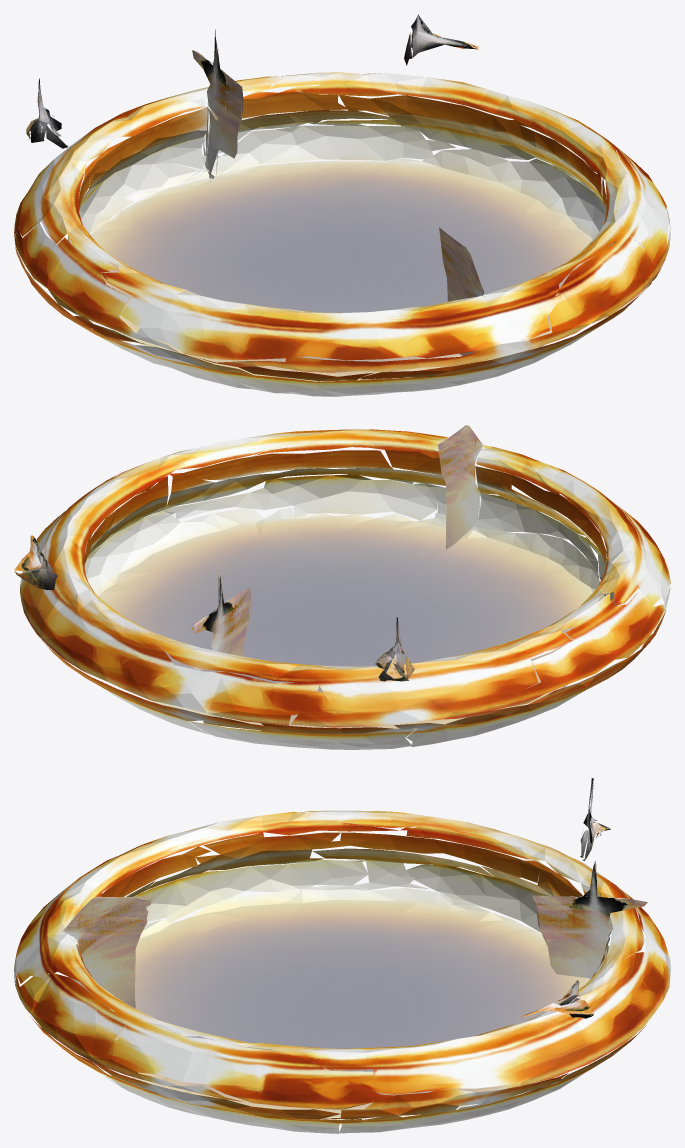
File: hatHalo_lo.glb
3 renders of one model, top to bottom at view 1: azimuth 30°, elevation 25°; view 2: azimuth 150°, elevation 25°; view 3: azimuth 270°, elevation 25°, orthographic.
Visible parts, largest first — view 1: geometry_0; view 2: geometry_0; view 3: geometry_0.
Part boxes in pixels (x1,y1,x2,y2): geometry_0: [14, 14, 670, 396]; geometry_0: [14, 425, 670, 749]; geometry_0: [14, 778, 670, 1133].
Size of the model in its own units: 1 by 0.2735 by 1.
Materials: 1 (1 with a texture image).
